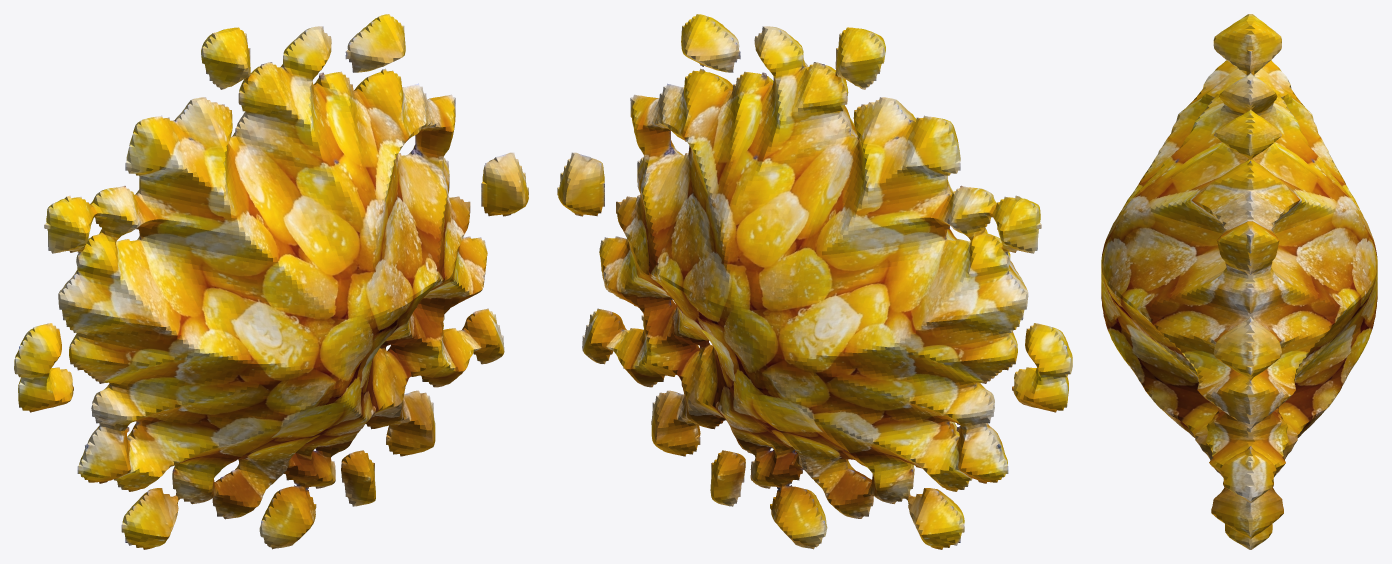
Rendered from corn.glb.
The picture shows the model from 3 angles, left to right: view 1: azimuth 30°, elevation 25°; view 2: azimuth 150°, elevation 25°; view 3: azimuth 270°, elevation 25°; orthographic projection. The views are drawn at different scales.
Parts seen in each view (by area): view 1: Corn; view 2: Corn; view 3: Corn.
Part boxes in pixels (x1,y1,x2,y2): Corn: [14, 14, 528, 549]; Corn: [557, 14, 1072, 549]; Corn: [1101, 14, 1377, 549].
Bounding box in the file's own units: 1.64 × 1.62 × 0.8292.
1 material, 1 textured.
